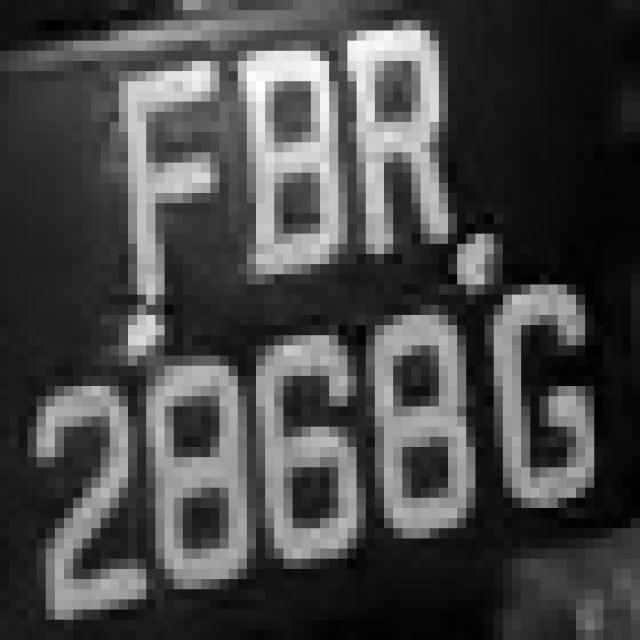2: (9, 376, 156, 609)
6: (247, 315, 384, 579)
8: (347, 284, 494, 569), (128, 345, 256, 579)
B: (201, 41, 357, 294)
F: (91, 41, 238, 294)
G: (466, 254, 613, 549)
R: (320, 51, 485, 274)
